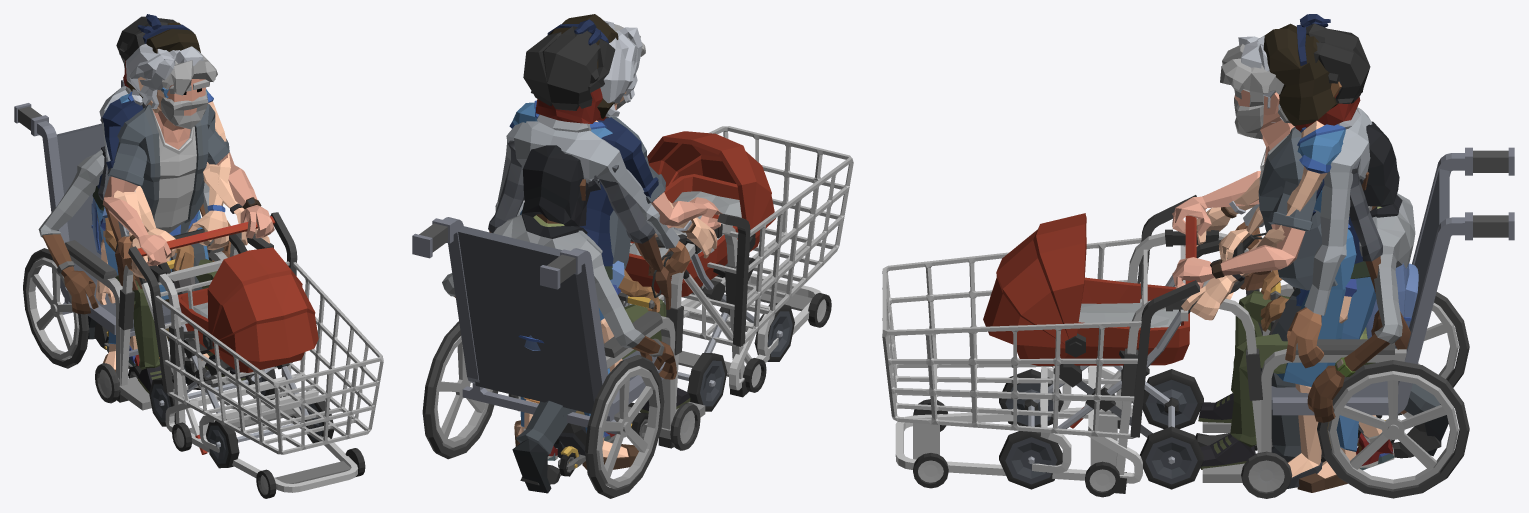
File: human-characters-poses-2.glb
The picture shows the model from 3 angles, left to right: view 1: azimuth 30°, elevation 25°; view 2: azimuth 150°, elevation 25°; view 3: azimuth 270°, elevation 25°; orthographic projection. The views are drawn at different scales.
Parts seen in each view (by area): view 1: Character_16, Character_10, Character_11, Character_12, Character_15, Character_9, Character_13, Character_14; view 2: Character_11, Character_16, Character_10, Character_15, Character_12, Character_9, Character_13, Character_14; view 3: Character_16, Character_10, Character_11, Character_12, Character_15, Character_9, Character_14, Character_13.
Boxes of the visible parts, bbox=[...] form: Character_16: bbox=[88, 53, 383, 498]; Character_10: bbox=[119, 14, 334, 468]; Character_11: bbox=[14, 79, 245, 410]; Character_12: bbox=[92, 44, 294, 441]; Character_15: bbox=[99, 16, 230, 454]; Character_9: bbox=[94, 60, 218, 389]; Character_13: bbox=[102, 207, 194, 382]; Character_14: bbox=[91, 198, 139, 365]; Character_11: bbox=[412, 145, 705, 498]; Character_16: bbox=[512, 19, 853, 493]; Character_10: bbox=[509, 14, 794, 458]; Character_15: bbox=[495, 26, 751, 455]; Character_12: bbox=[514, 20, 749, 469]; Character_9: bbox=[472, 88, 671, 485]; Character_13: bbox=[547, 260, 660, 476]; Character_14: bbox=[518, 284, 622, 459]; Character_16: bbox=[882, 44, 1454, 497]; Character_10: bbox=[983, 14, 1356, 489]; Character_11: bbox=[1198, 121, 1514, 498]; Character_12: bbox=[1111, 35, 1376, 493]; Character_15: bbox=[1070, 23, 1382, 462]; Character_9: bbox=[1195, 88, 1441, 458]; Character_14: bbox=[1339, 263, 1418, 467]; Character_13: bbox=[1254, 206, 1394, 470].
Bounding box in the file's own units: 0.9154 × 1.86 × 2.39.
1 material, 1 textured.
